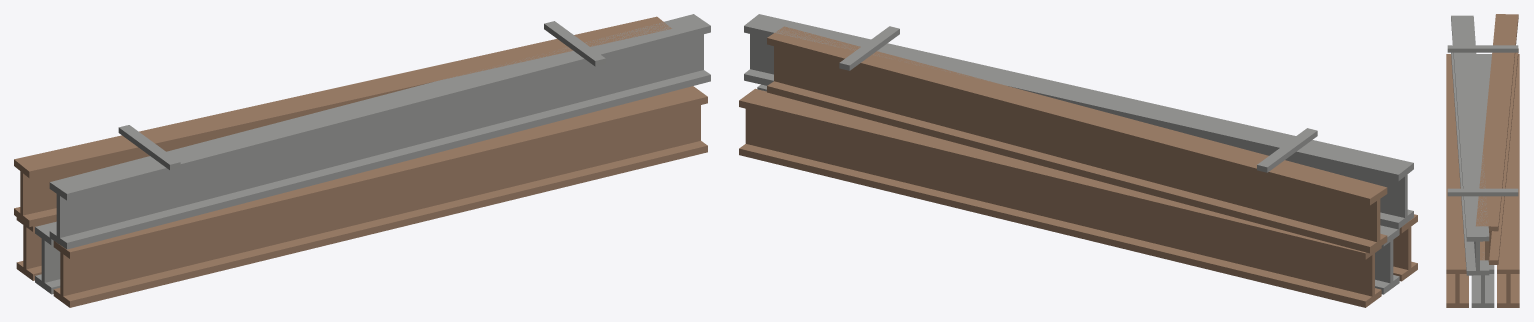
Rendered from dm_ibeamstack.glb.
The picture shows the model from 3 angles, left to right: view 1: azimuth 30°, elevation 25°; view 2: azimuth 150°, elevation 25°; view 3: azimuth 270°, elevation 25°; orthographic projection. The views are drawn at different scales.
Visible parts, largest first — view 1: dm_ibeamstack; view 2: dm_ibeamstack; view 3: dm_ibeamstack.
Boxes of the visible parts, x1,y1,x2,y2 form: dm_ibeamstack: [14, 14, 710, 307]; dm_ibeamstack: [739, 14, 1417, 307]; dm_ibeamstack: [1446, 14, 1519, 307].
Size of the model in its own units: 3.73 by 0.635 by 0.52.
